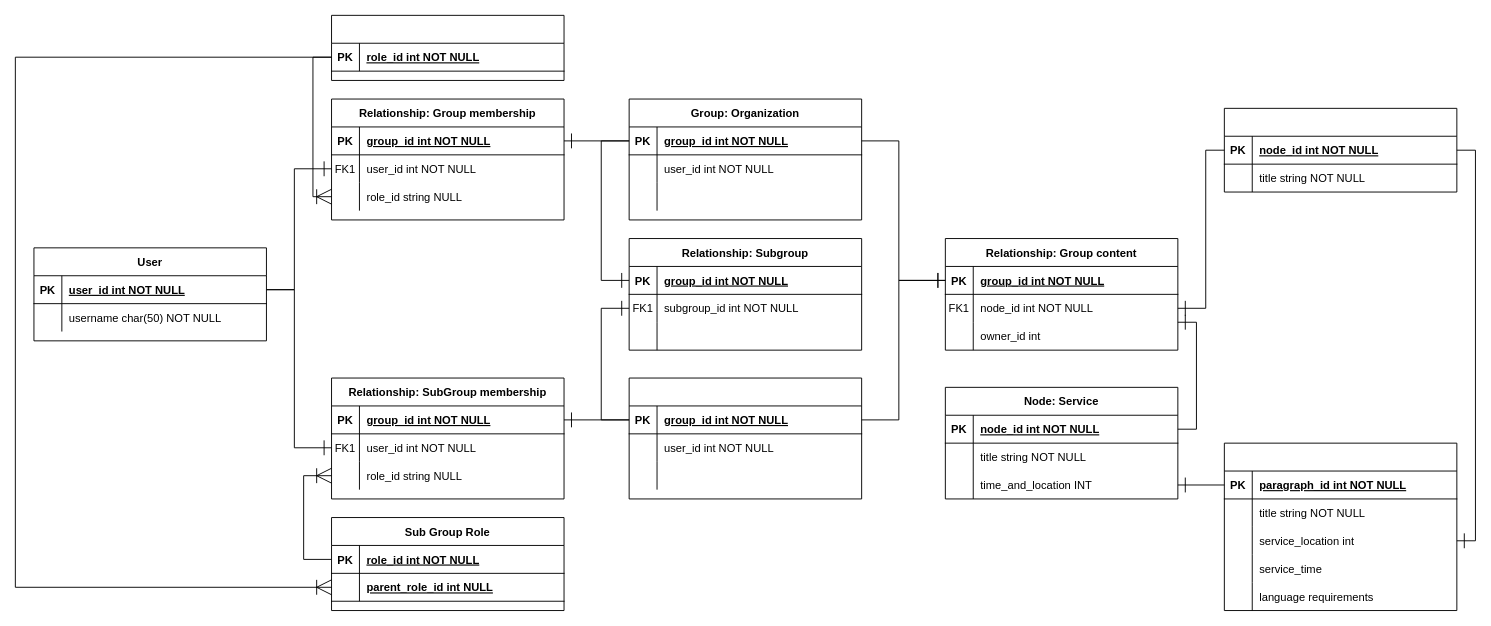
Image size: 1491x626. Some labels were removed from this diagram. Here are the shapes that lost their labels. From the top down, the box of each, then its label:
(331, 14, 564, 80): Group Role
(1223, 107, 1457, 192): Node: Service Location
(628, 377, 862, 499): Group: Service provider
(1223, 442, 1457, 611): Paragraph: Service time and location
